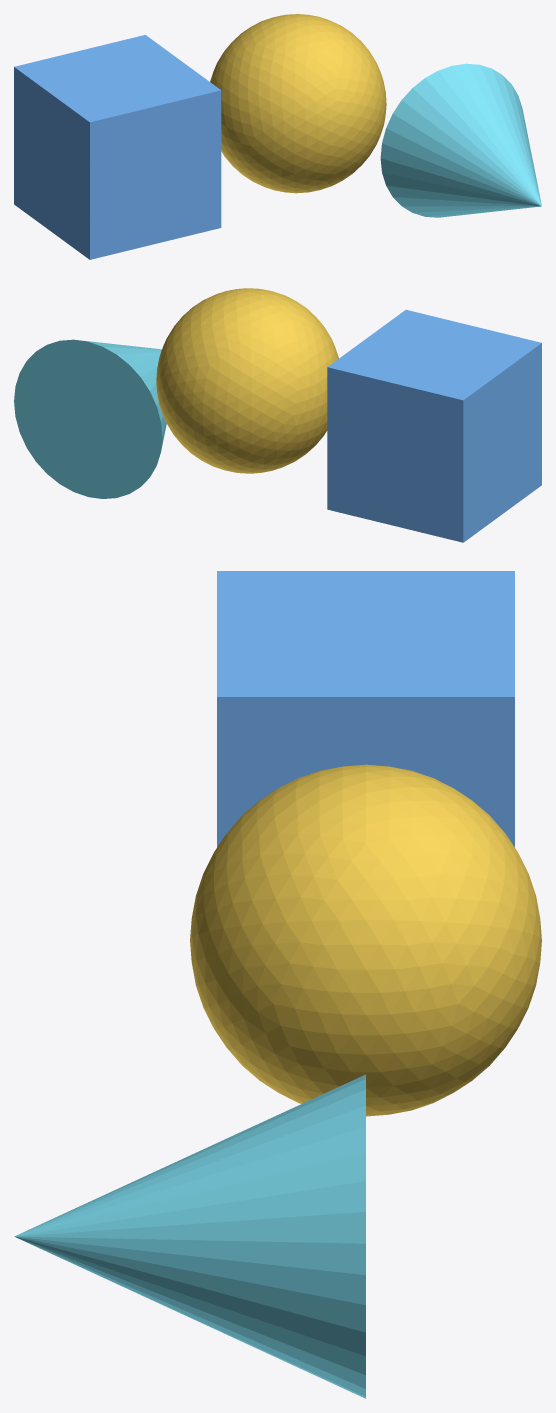
Rendered from didactico.glb.
3 renders of one model, top to bottom at view 1: azimuth 30°, elevation 25°; view 2: azimuth 150°, elevation 25°; view 3: azimuth 270°, elevation 25°, orthographic. The views are drawn at different scales.
Parts seen in each view (by area): view 1: world; view 2: world; view 3: world.
Part boxes in pixels (box(x1,y1,x2,y2)): world: box(14, 14, 541, 259); world: box(14, 288, 541, 542); world: box(14, 571, 541, 1398).
Bounding box in the file's own units: 3.95 × 1.85 × 1.95.
